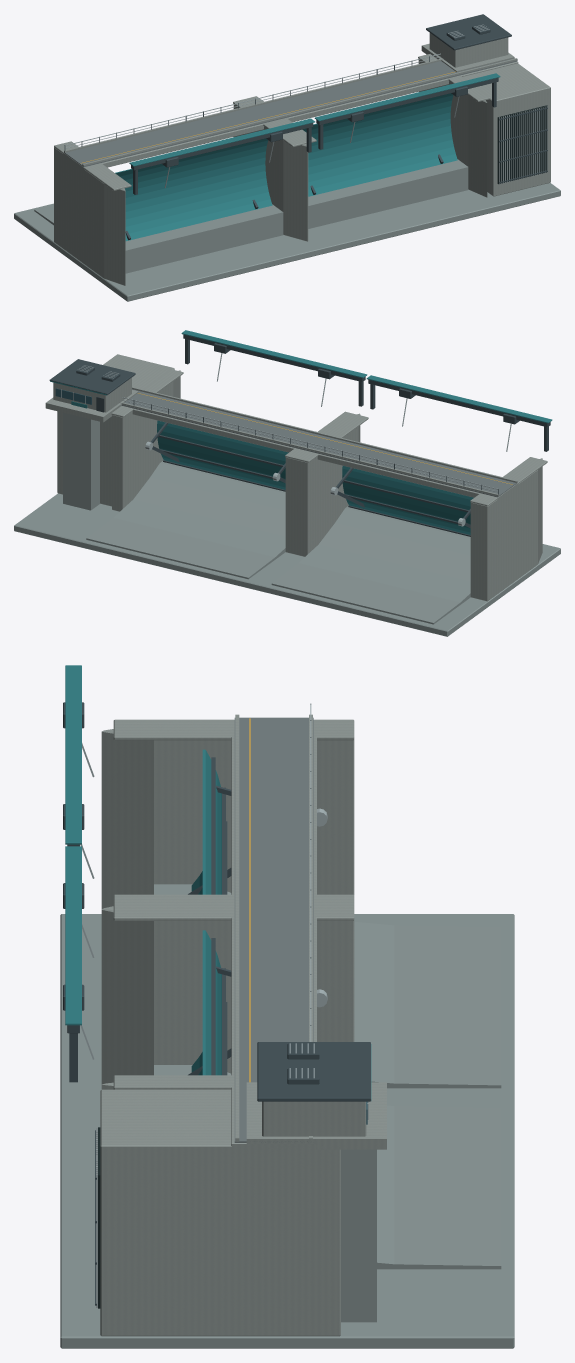
File: Dam_Module75_LOD0.glb
3 views of the same model, one above another, from view 1: azimuth 30°, elevation 25°; view 2: azimuth 150°, elevation 25°; view 3: azimuth 270°, elevation 25° (orthographic). The views are drawn at different scales.
Parts seen in each view (by area): view 1: Dam_Module75_LOD0; view 2: Dam_Module75_LOD0; view 3: Dam_Module75_LOD0.
Part boxes in pixels (x1=…): Dam_Module75_LOD0: x1=14, y1=14, x2=560, y2=301; Dam_Module75_LOD0: x1=14, y1=330, x2=560, y2=636; Dam_Module75_LOD0: x1=60, y1=665, x2=514, y2=1348.
Bounding box in the file's own units: 75 × 22.08 × 34.
Materials: 9 (1 with a texture image).
